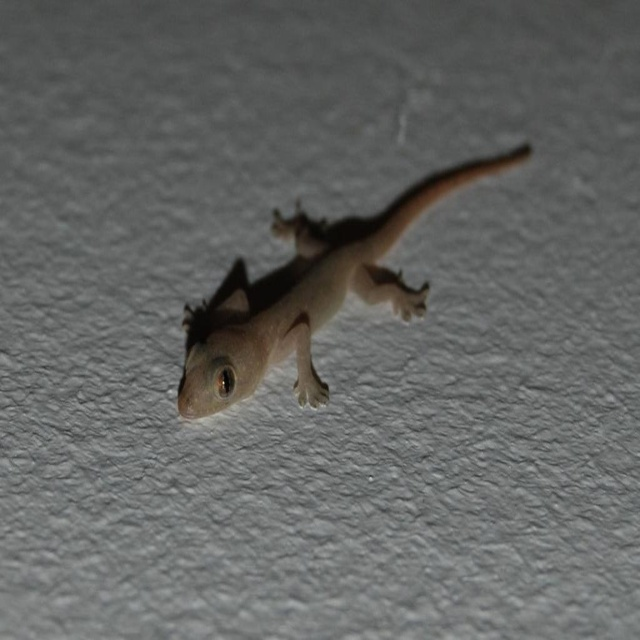Lizard: (163, 119, 550, 426)
